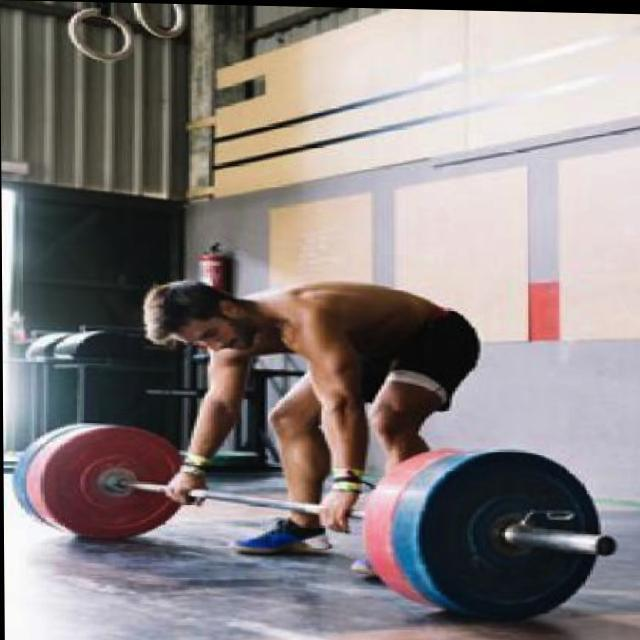barbell: (410, 441, 634, 628)
